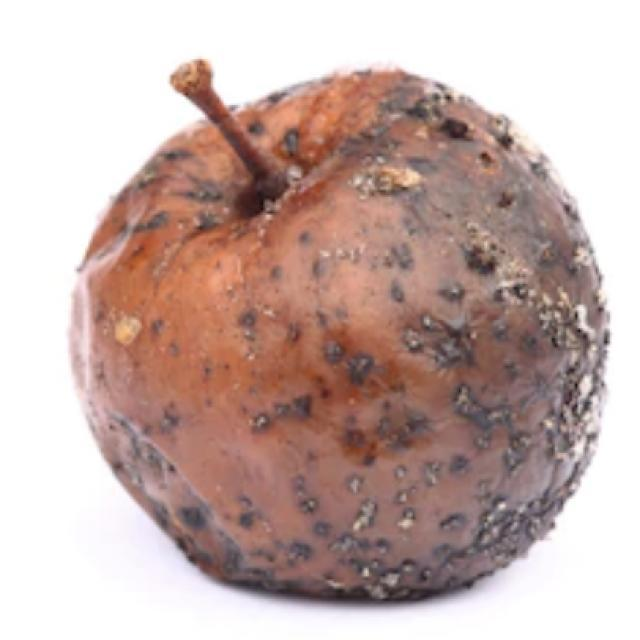Rotten: (67, 61, 610, 606)
